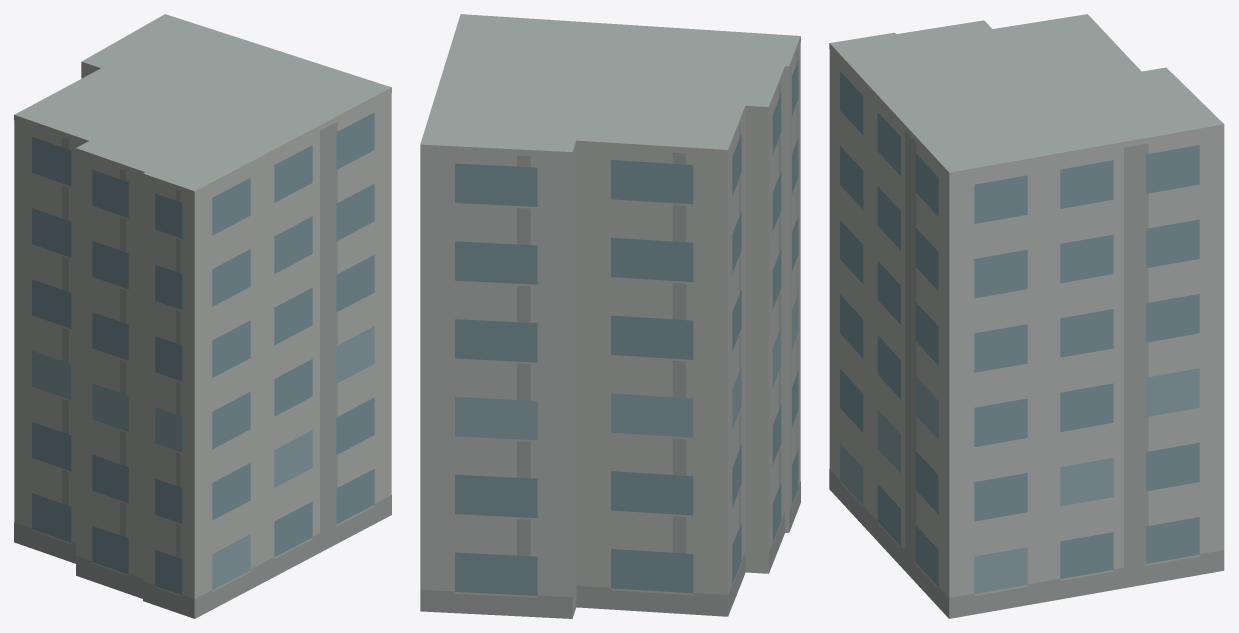
Rendered from survey-upis-32902617.glb.
3 renders of one model, left to right at view 1: azimuth 30°, elevation 25°; view 2: azimuth 150°, elevation 25°; view 3: azimuth 270°, elevation 25°, orthographic. The views are drawn at different scales.
Parts seen in each view (by area): view 1: survey-upis-32902617.tmp; view 2: survey-upis-32902617.tmp; view 3: survey-upis-32902617.tmp.
Boxes of the visible parts, box(x1,y1,x2,y2) form: survey-upis-32902617.tmp: box(14, 14, 391, 618); survey-upis-32902617.tmp: box(420, 14, 800, 618); survey-upis-32902617.tmp: box(829, 14, 1224, 618).
Size of the model in its own units: 14.23 by 18.66 by 14.97.
